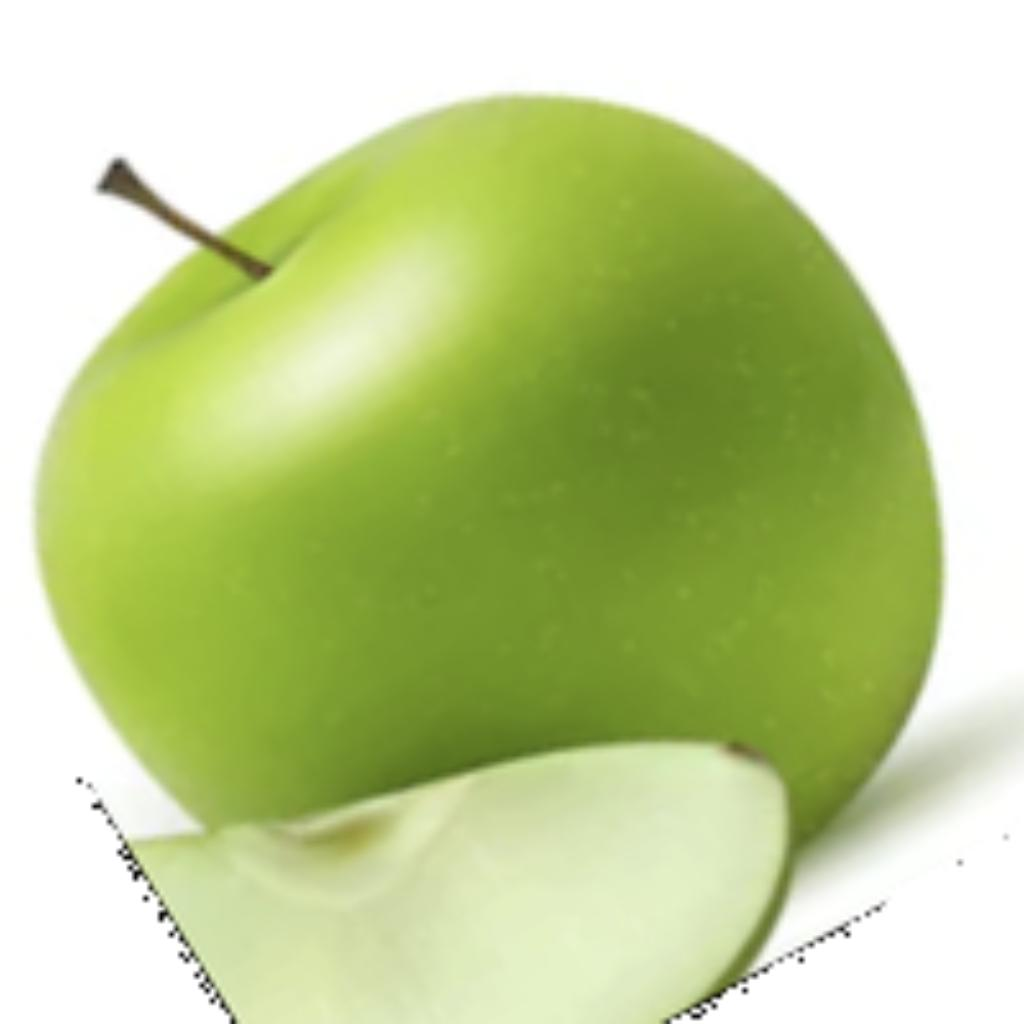apple: (26, 87, 1019, 1019)
